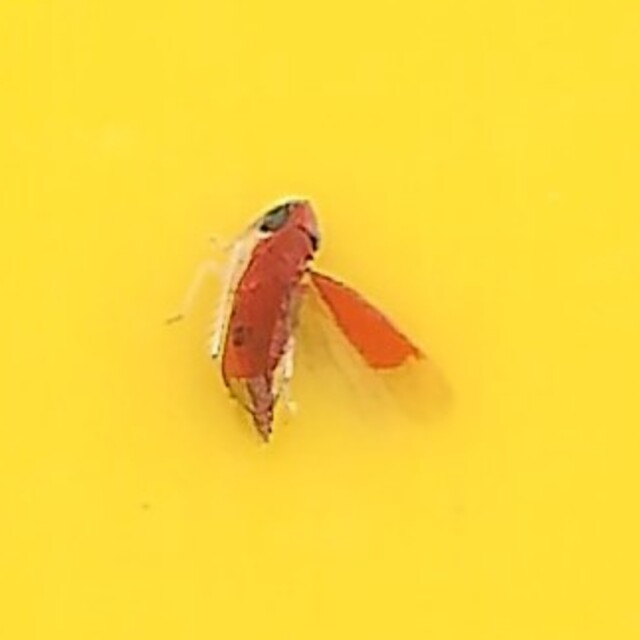Hemiptera: (198, 196, 442, 444)
